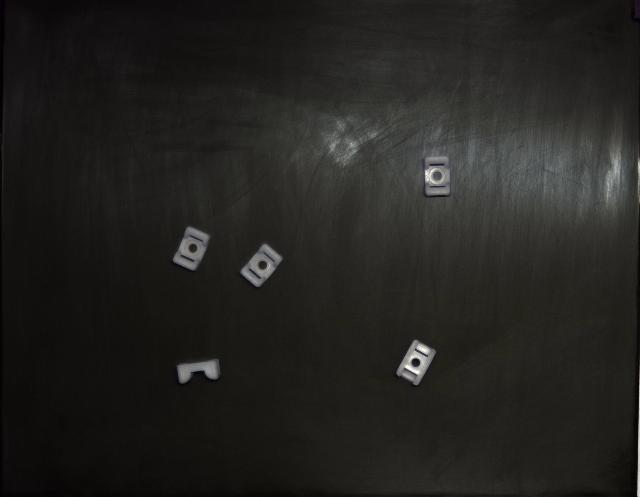first_side: (241, 245, 282, 288), (172, 226, 210, 271), (424, 156, 451, 196)
second_side: (396, 340, 436, 386)
third_side: (176, 360, 220, 384)
